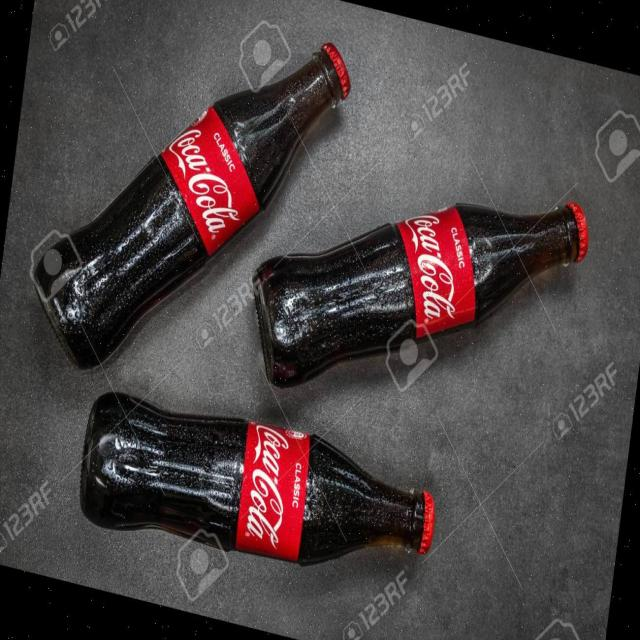coca-cola: (22, 0, 360, 432), (237, 119, 602, 472), (60, 359, 448, 624)
